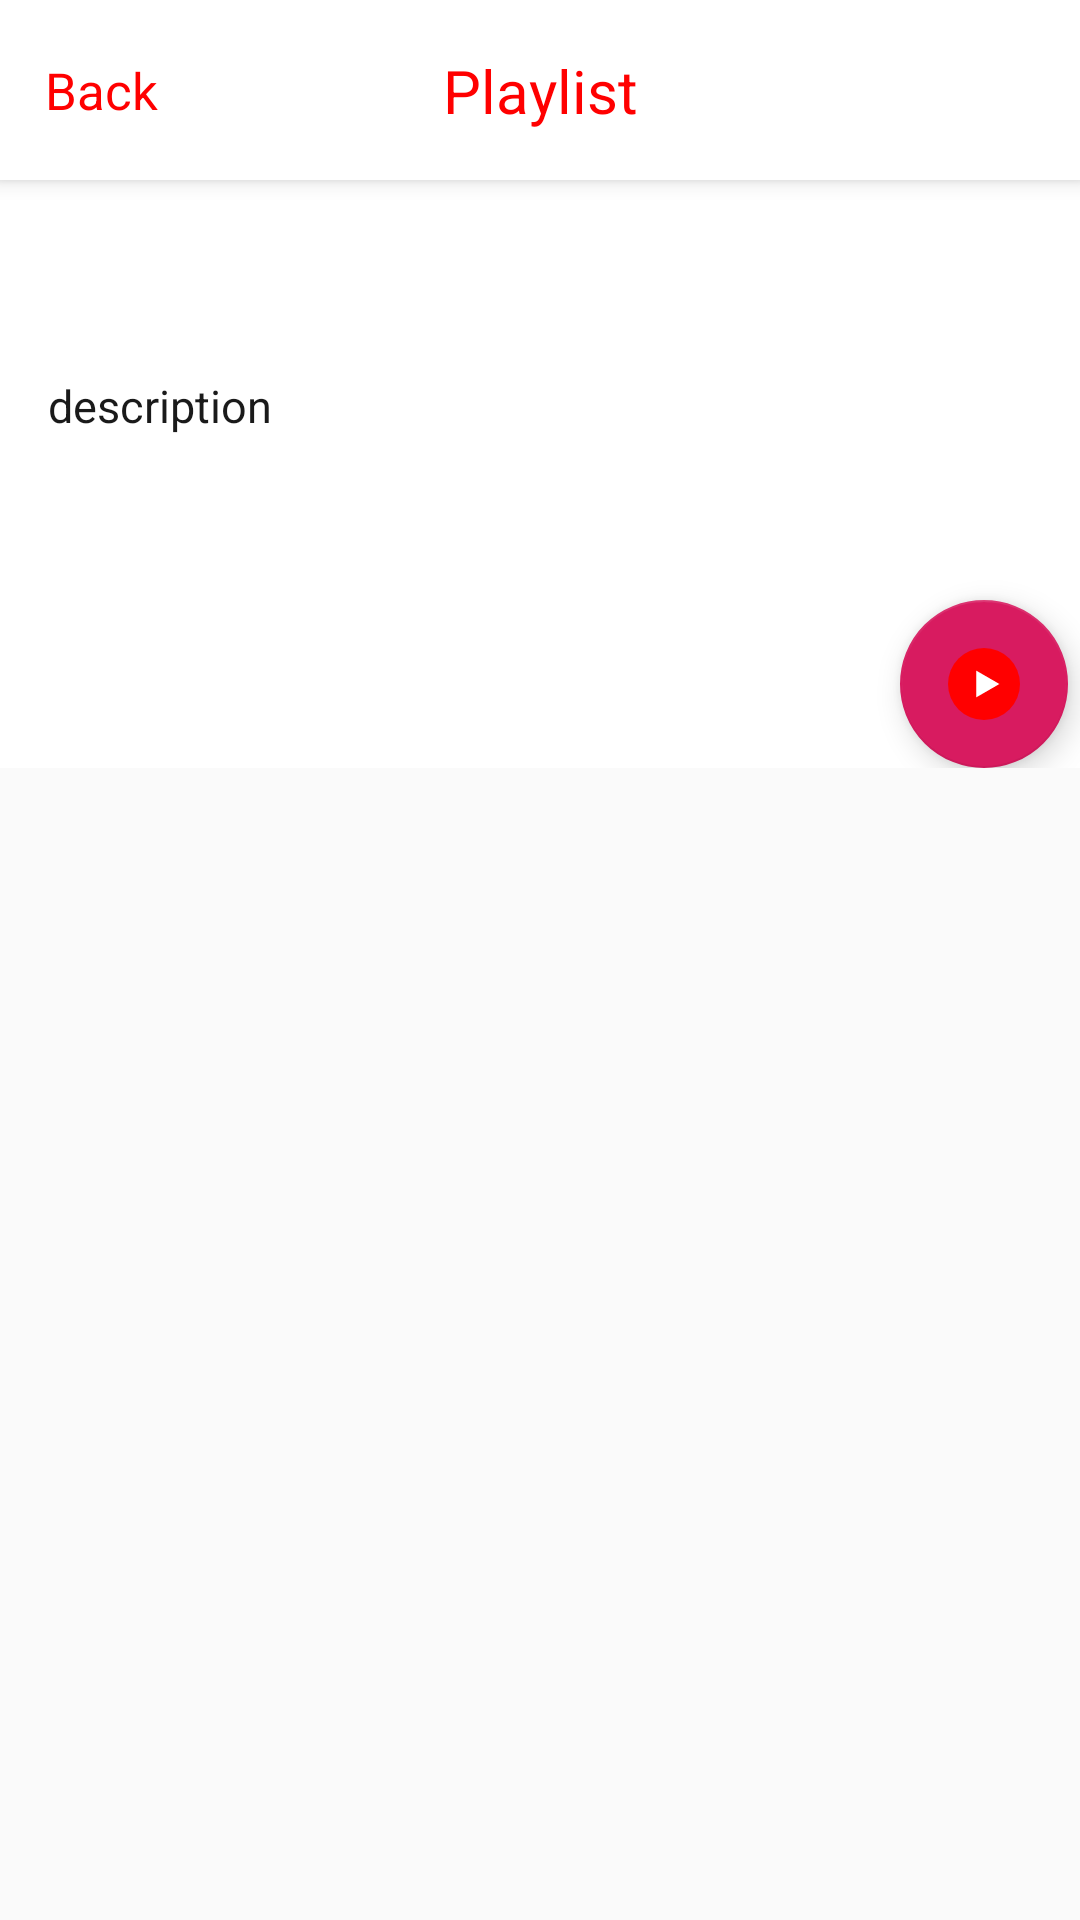

Locate icon controls on the screen. Image size 1080w x 1920h, boxes as (x1=x1, y1=y1, x2=x2, y2=y2).
play: (x1=900, y1=600, x2=1068, y2=768)
